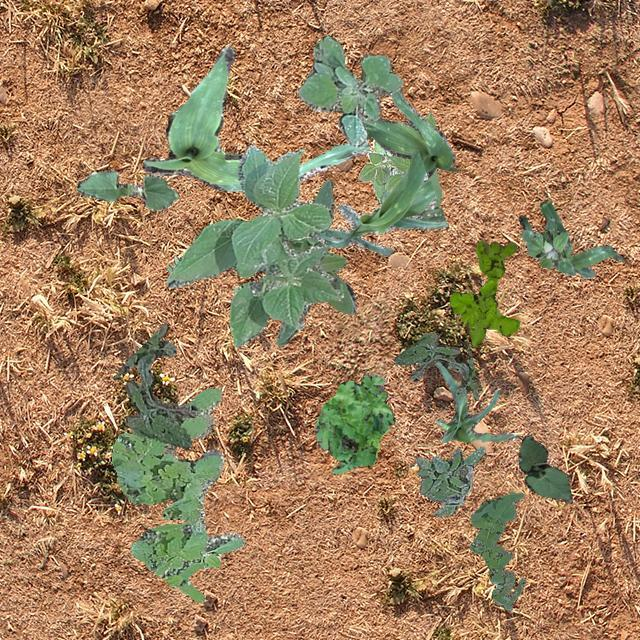crop: (165, 144, 342, 346), (142, 44, 368, 190), (314, 150, 446, 254), (518, 198, 624, 278), (362, 88, 456, 176), (356, 112, 442, 206), (434, 361, 516, 442), (76, 168, 176, 210), (518, 433, 572, 502)
weed: (110, 386, 244, 602), (276, 178, 356, 344), (296, 34, 402, 146), (112, 322, 196, 448), (314, 372, 394, 473), (448, 240, 518, 346), (468, 490, 524, 610), (393, 332, 477, 399), (414, 446, 484, 516), (520, 216, 574, 274), (164, 255, 178, 272)
